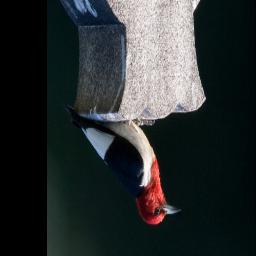Woodpecker: (60, 96, 184, 229)
